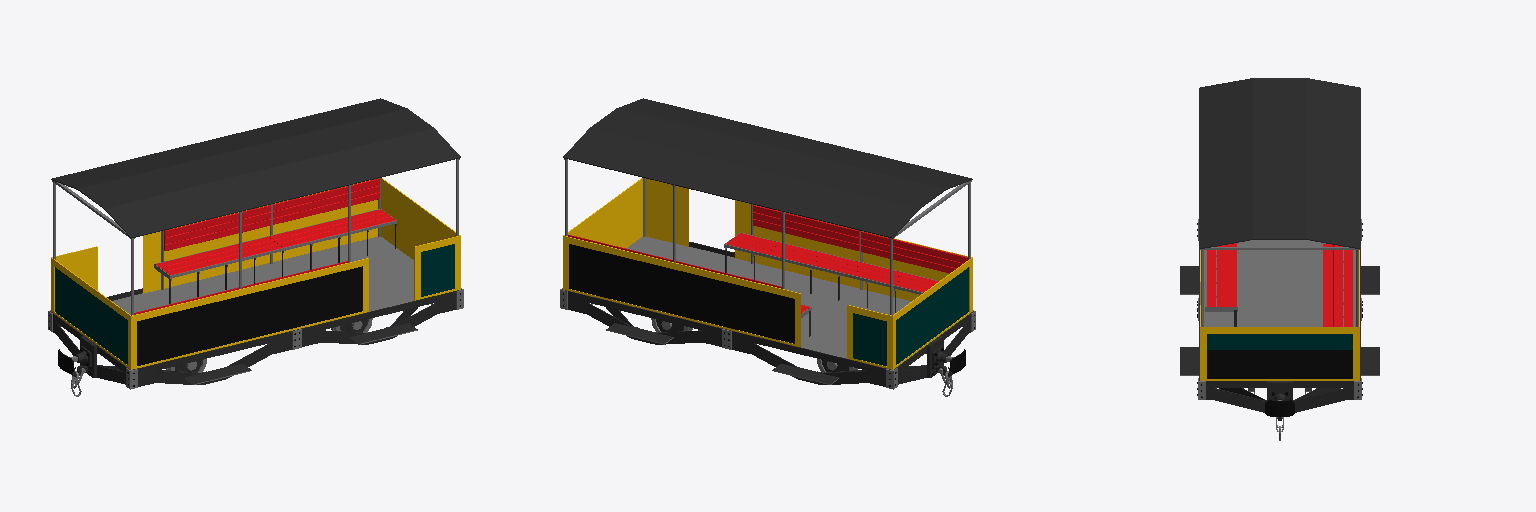
The picture shows the model from 3 angles: view 1: azimuth 30°, elevation 25°; view 2: azimuth 150°, elevation 25°; view 3: azimuth 270°, elevation 25°; orthographic projection.
Parts seen in each view (by area): view 1: SHELL, FRAME, REMAINING, COUPLER_FRONT; view 2: SHELL, FRAME, REMAINING, COUPLER_FRONT; view 3: SHELL, FRAME, REMAINING, COUPLER_REAR.
Part boxes in pixels (x1,y1,x2,y2): SHELL: (51, 98, 460, 369); FRAME: (48, 237, 463, 389); REMAINING: (134, 178, 396, 314); COUPLER_FRONT: (58, 346, 91, 396); SHELL: (563, 98, 972, 369); FRAME: (560, 237, 975, 389); REMAINING: (568, 205, 967, 336); COUPLER_FRONT: (932, 346, 965, 396); SHELL: (1199, 78, 1360, 380); FRAME: (1180, 219, 1379, 412); REMAINING: (1205, 243, 1354, 326); COUPLER_REAR: (1265, 391, 1294, 440).
Size of the model in its own units: 6.23 by 3 by 2.77.
Materials: 1 (1 with a texture image).